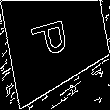P_E: (35, 17, 80, 65)
